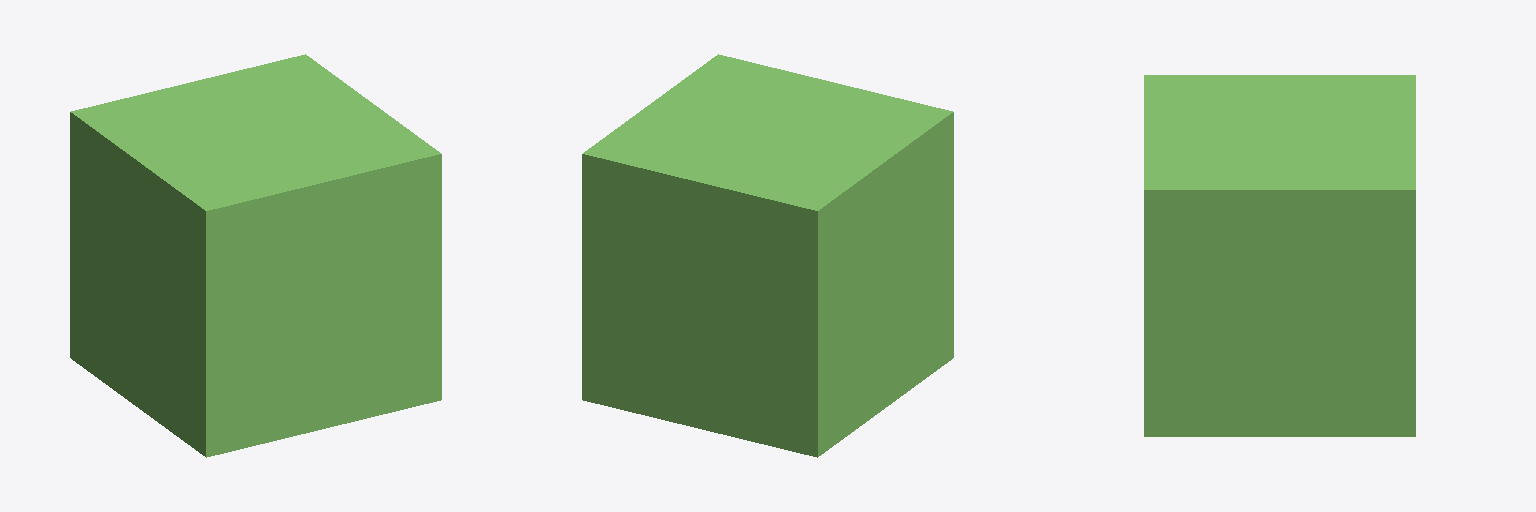
3 renders of one model, left to right at view 1: azimuth 30°, elevation 25°; view 2: azimuth 150°, elevation 25°; view 3: azimuth 270°, elevation 25°, orthographic.
Parts seen in each view (by area): view 1: Cube; view 2: Cube; view 3: Cube.
Boxes of the visible parts, <box> form: Cube: <box>70,54,441,457</box>; Cube: <box>582,54,953,457</box>; Cube: <box>1144,75,1415,436</box>.
Bounding box in the file's own units: 2 × 2 × 2.
Materials: 1 (1 with a texture image).